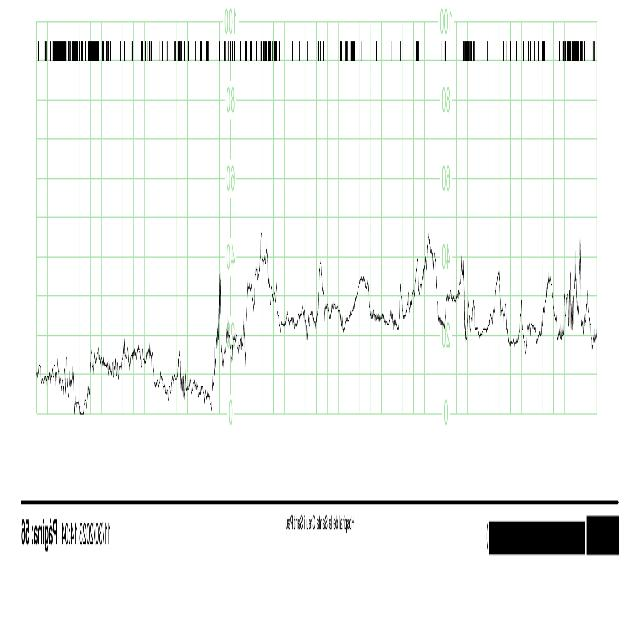contraction: (242, 228, 284, 330), (406, 224, 440, 328), (488, 262, 514, 344), (448, 259, 468, 332), (539, 274, 561, 340)
